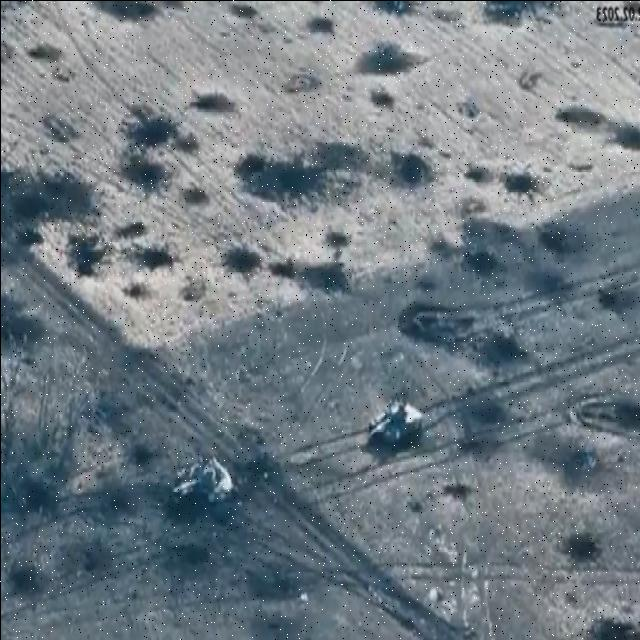TANK: (168, 449, 236, 509), (366, 386, 426, 446)
